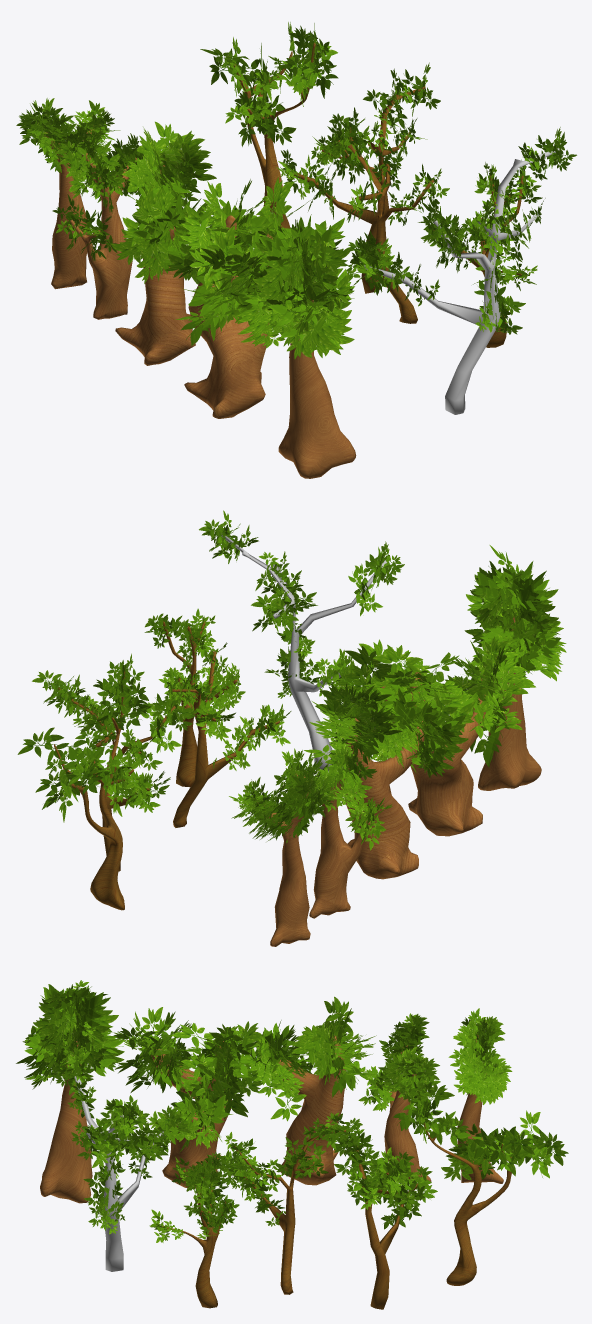
File: phonBesarHIGH.fbx
The picture shows the model from 3 angles, top to bottom: view 1: azimuth 30°, elevation 25°; view 2: azimuth 150°, elevation 25°; view 3: azimuth 270°, elevation 25°; orthographic projection. The views are drawn at different scales.
Parts seen in each view (by area): view 1: Retopo_Cube.012, Retopo_Cube.008, Cube.002, Retopo_Cube.007, Retopo_Cube.005, Retopo_Cube.001, Cube.003, Cube.004, Retopo_Cube, Retopo_Cube.008|daun6|Dupli|3, Retopo_Cube.012|daun6|Dupli|23, Retopo_Cube.008|daun6|Dupli|80 (+6 smaller); view 2: Retopo_Cube.007, Retopo_Cube.008, Retopo_Cube.005, Retopo_Cube.001, Cube.002, Retopo_Cube.012, Retopo_Cube, Cube.003, Cube.001, Retopo_Cube|daun6|Dupli|5, Cube.004, Retopo_Cube.008|daun6|Dupli|74 (+5 smaller); view 3: Retopo_Cube.012, Retopo_Cube.007, Retopo_Cube, Cube.002, Retopo_Cube.008, Cube.003, Cube.004, Retopo_Cube.005, Cube.001, Retopo_Cube.001, Retopo_Cube|daun6|Dupli|5, Retopo_Cube.008|daun6|Dupli|86 (+12 smaller).
Part boxes in pixels (<box>): Retopo_Cube.012: <box>278,299,356,478</box>; Retopo_Cube.008: <box>184,215,272,418</box>; Cube.002: <box>364,148,559,414</box>; Retopo_Cube.007: <box>115,165,195,365</box>; Retopo_Cube.005: <box>70,153,136,319</box>; Retopo_Cube.001: <box>44,129,93,289</box>; Cube.003: <box>348,127,434,323</box>; Cube.004: <box>285,86,425,293</box>; Retopo_Cube: <box>233,42,315,228</box>; Retopo_Cube.008|daun6|Dupli|3: <box>207,225,261,319</box>; Retopo_Cube.012|daun6|Dupli|23: <box>258,217,345,260</box>; Retopo_Cube.008|daun6|Dupli|80: <box>182,201,267,242</box>; Retopo_Cube.007: <box>346,718,424,879</box>; Retopo_Cube.008: <box>380,672,485,836</box>; Retopo_Cube.005: <box>295,765,370,918</box>; Retopo_Cube.001: <box>257,792,310,946</box>; Cube.002: <box>221,535,387,771</box>; Retopo_Cube.012: <box>478,617,541,790</box>; Retopo_Cube: <box>54,671,133,910</box>; Cube.003: <box>171,651,279,827</box>; Cube.001: <box>163,621,237,787</box>; Retopo_Cube|daun6|Dupli|5: <box>17,727,87,765</box>; Cube.004: <box>57,687,175,871</box>; Retopo_Cube.008|daun6|Dupli|74: <box>373,644,441,700</box>; Retopo_Cube.012: <box>40,1040,92,1203</box>; Retopo_Cube.007: <box>269,1035,345,1185</box>; Retopo_Cube: <box>424,1123,534,1285</box>; Cube.002: <box>74,1073,163,1271</box>; Retopo_Cube.008: <box>151,1041,231,1188</box>; Cube.003: <box>234,1129,346,1294</box>; Cube.004: <box>355,1146,418,1309</box>; Retopo_Cube.005: <box>376,1045,431,1181</box>; Cube.001: <box>162,1162,225,1308</box>; Retopo_Cube.001: <box>457,1035,503,1183</box>; Retopo_Cube|daun6|Dupli|5: <box>473,1127,534,1164</box>; Retopo_Cube.008|daun6|Dupli|86: <box>171,1023,254,1076</box>.
Bounding box in the file's own units: 18123 × 11741 × 26257.
